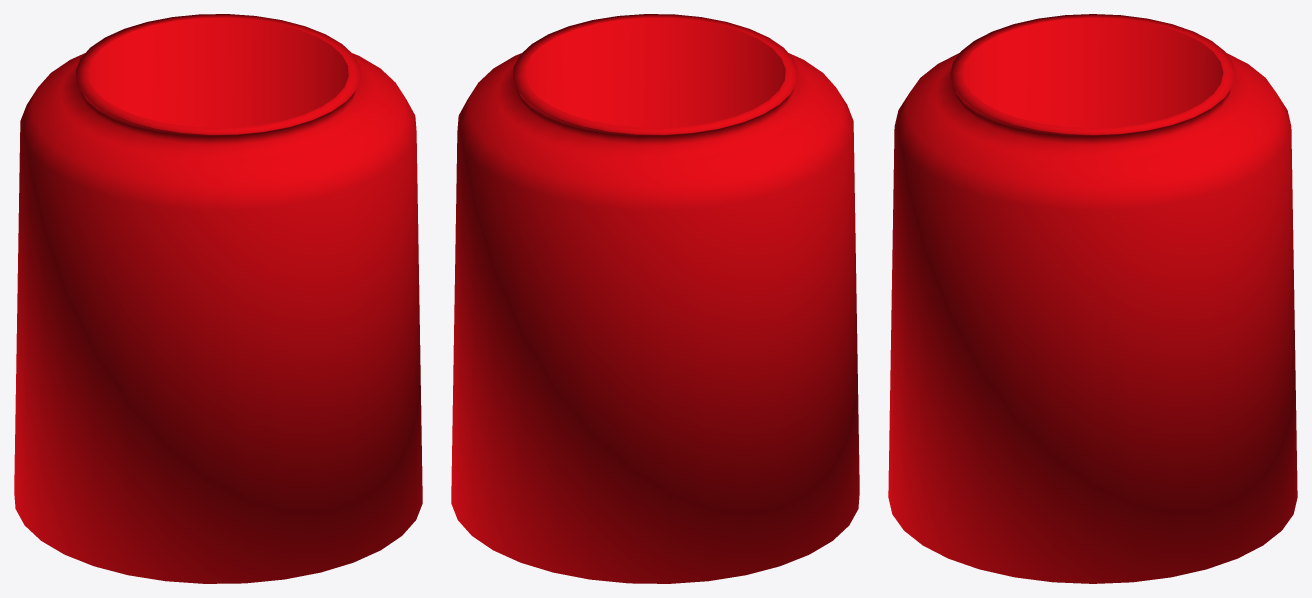
File: jar.fbx
3 renders of one model, left to right at view 1: azimuth 30°, elevation 25°; view 2: azimuth 150°, elevation 25°; view 3: azimuth 270°, elevation 25°, orthographic.
Visible parts, largest first — view 1: Cylinder; view 2: Cylinder; view 3: Cylinder.
Part boxes in pixels (<box>): Cylinder: <box>14,14,422,583</box>; Cylinder: <box>451,14,859,583</box>; Cylinder: <box>888,14,1297,583</box>.
Size of the model in its own units: 200 by 229 by 200.
